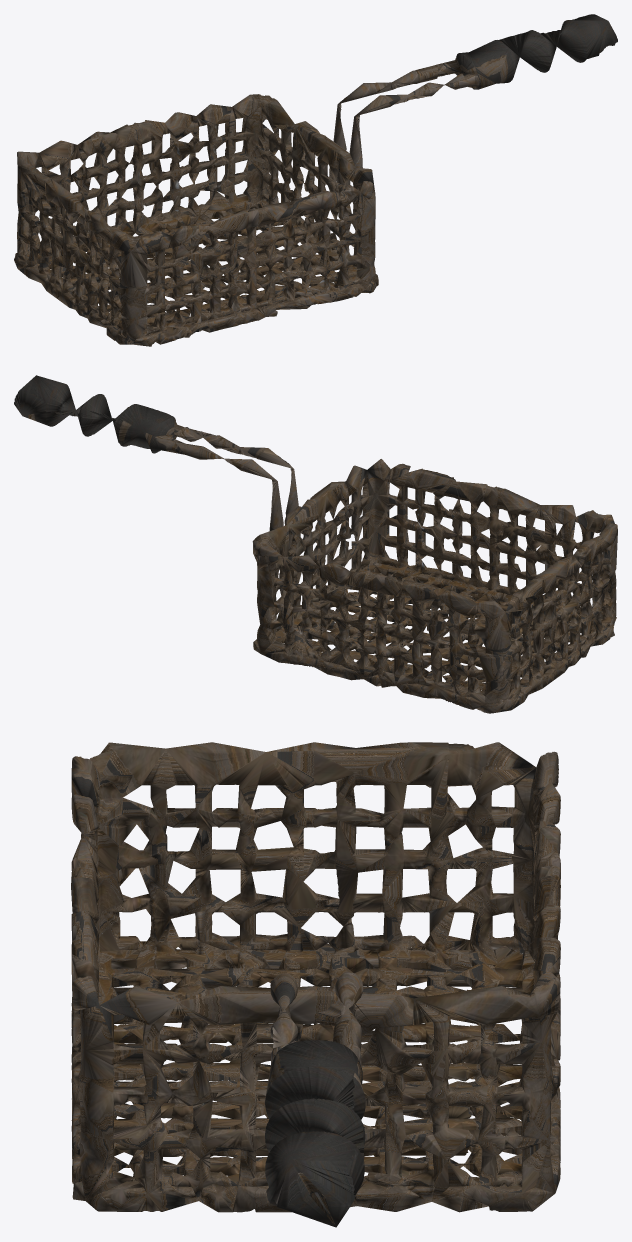
File: FryerBasket.glb
The picture shows the model from 3 angles, top to bottom: view 1: azimuth 30°, elevation 25°; view 2: azimuth 150°, elevation 25°; view 3: azimuth 270°, elevation 25°; orthographic projection. The views are drawn at different scales.
Visible parts, largest first — view 1: FryerBasket; view 2: FryerBasket; view 3: FryerBasket.
Part boxes in pixels (left/top/right/bottom): FryerBasket: left=14, top=14, right=617, bottom=346; FryerBasket: left=14, top=375, right=617, bottom=713; FryerBasket: left=71, top=742, right=560, bottom=1227.
Bounding box in the file's own units: 1.9 × 0.5437 × 0.7427.
1 material, 1 textured.
